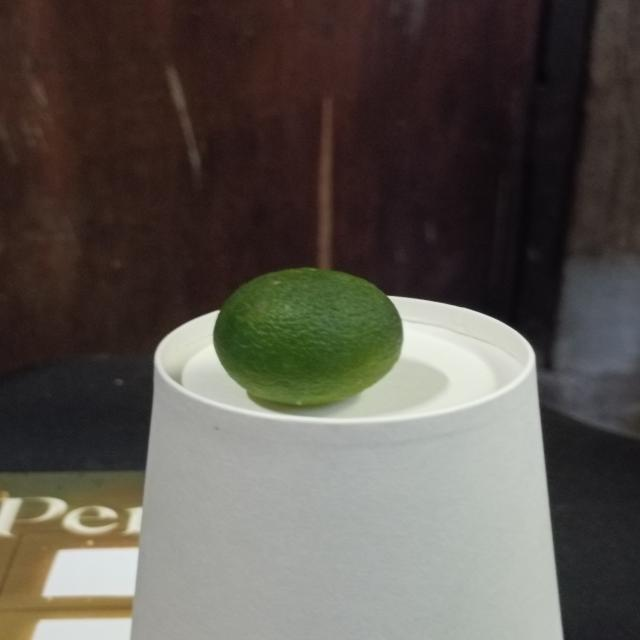heathy: (210, 261, 409, 410)
